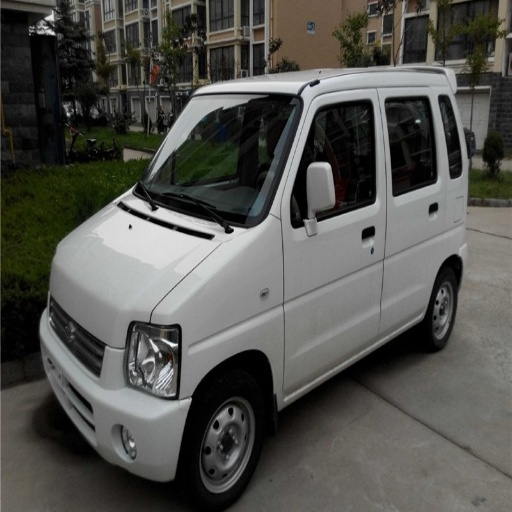front_bumper: (45, 325, 191, 480)
front_glass: (136, 98, 300, 225)
front_left_door: (284, 95, 386, 398)
